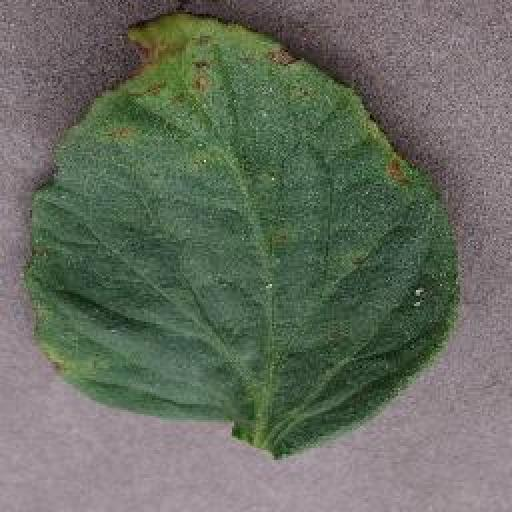Bacterial Spot: (20, 5, 469, 465)
